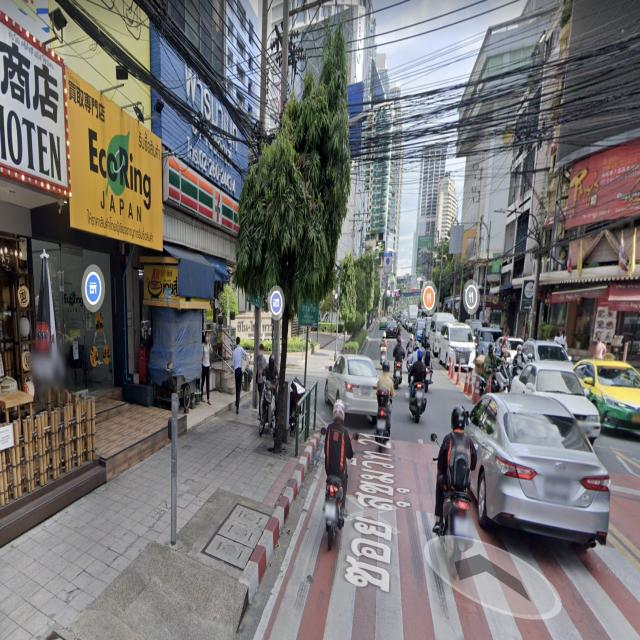tree: (230, 18, 349, 464), (332, 251, 368, 364), (368, 261, 385, 317)
